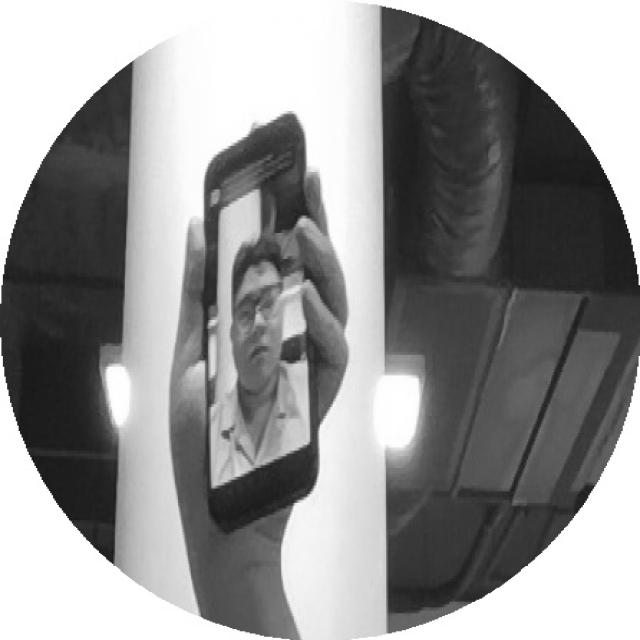fake: (158, 94, 361, 540), (189, 90, 335, 560)
